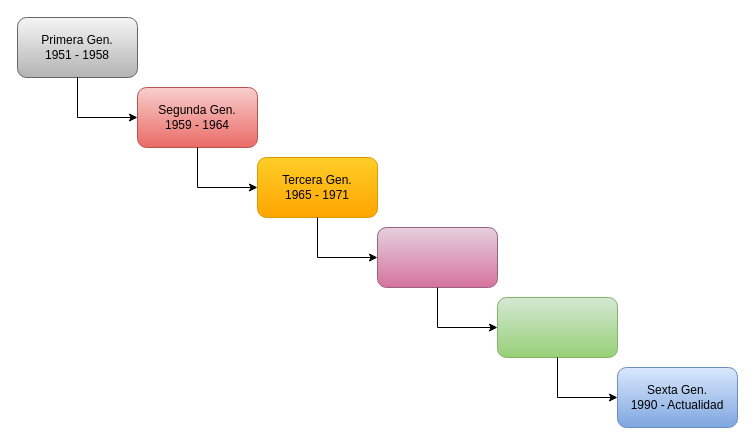
Some shapes in this 755 by 445 pixel diagram are drawn without their labels. The shapes that lost their labels are listed below. From the top down, each one's box as (x1, y1, x2, y2) in pixels, then its label:
(376, 226, 498, 288): Cuarta Gen. 1972 - 1981
(496, 296, 618, 358): Quinta Gen. 1982 - 1989
